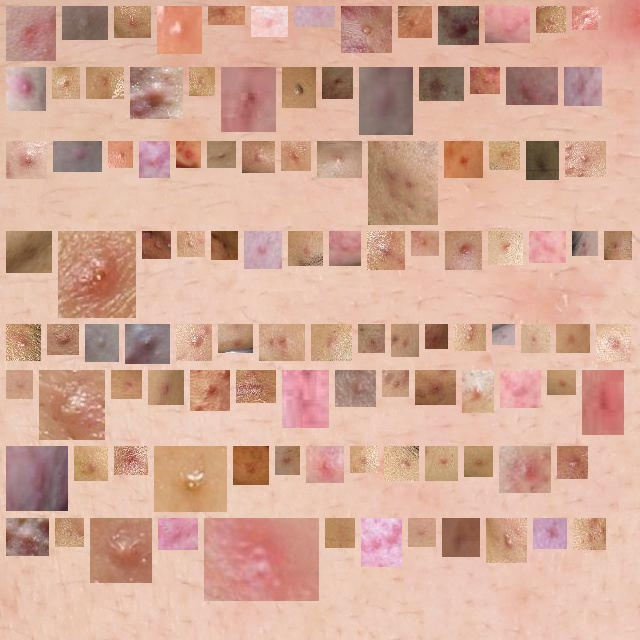papule: (212, 526, 311, 593), (66, 239, 128, 310), (376, 149, 430, 217), (162, 454, 219, 504), (47, 378, 97, 432), (14, 454, 60, 503), (98, 526, 144, 575), (367, 75, 406, 127), (229, 75, 268, 124), (6, 14, 48, 53), (138, 75, 175, 111), (290, 378, 321, 420), (590, 378, 616, 427), (507, 454, 543, 485), (349, 14, 384, 45), (165, 14, 194, 46), (369, 526, 394, 559), (514, 75, 550, 97), (14, 239, 44, 265), (494, 526, 519, 555), (427, 75, 456, 99), (133, 332, 162, 356), (14, 75, 38, 103), (267, 332, 297, 353), (493, 14, 522, 35), (325, 149, 354, 170), (198, 378, 222, 403), (14, 526, 41, 548), (446, 14, 471, 37), (14, 149, 39, 171), (508, 378, 533, 400), (70, 14, 100, 32), (319, 332, 344, 353), (343, 378, 368, 399), (572, 75, 594, 98), (375, 239, 397, 262), (450, 526, 472, 549), (573, 149, 598, 169), (61, 149, 94, 164), (252, 239, 274, 261), (452, 149, 475, 170), (453, 239, 474, 262), (423, 378, 448, 397), (314, 454, 336, 475), (241, 454, 261, 477), (290, 75, 308, 100), (470, 378, 486, 405), (184, 332, 204, 353), (604, 332, 623, 354), (244, 378, 268, 395), (14, 332, 33, 353), (93, 332, 111, 354), (534, 149, 551, 172), (166, 526, 190, 542), (156, 378, 176, 397), (296, 239, 315, 258), (392, 454, 411, 473), (94, 75, 116, 91), (496, 239, 515, 257), (82, 454, 100, 473), (122, 14, 143, 30), (537, 239, 558, 255), (433, 454, 450, 473), (259, 14, 280, 29), (147, 149, 162, 170), (337, 239, 353, 258), (406, 14, 424, 30), (226, 332, 245, 347), (250, 149, 267, 165), (581, 526, 598, 542), (541, 526, 559, 541), (565, 454, 580, 471), (330, 75, 345, 91), (55, 332, 71, 347), (564, 332, 582, 345), (122, 454, 140, 467), (216, 6, 237, 17), (399, 332, 411, 349), (289, 149, 303, 163), (333, 526, 347, 540), (497, 149, 512, 162), (119, 378, 134, 391), (472, 454, 485, 469), (60, 75, 72, 91), (462, 332, 478, 343), (529, 332, 542, 345), (63, 526, 76, 539), (150, 239, 163, 251), (612, 239, 624, 252), (416, 526, 428, 539), (544, 14, 558, 25), (478, 75, 492, 86), (215, 149, 228, 160), (219, 239, 230, 252), (366, 332, 377, 345), (14, 378, 25, 391), (358, 454, 370, 465), (197, 75, 207, 88), (390, 378, 401, 389), (185, 239, 197, 249), (555, 378, 568, 387), (283, 454, 292, 467), (419, 239, 431, 248), (116, 149, 125, 160), (184, 149, 193, 160), (580, 239, 590, 248), (580, 14, 590, 22), (433, 332, 440, 341), (500, 332, 507, 341)
